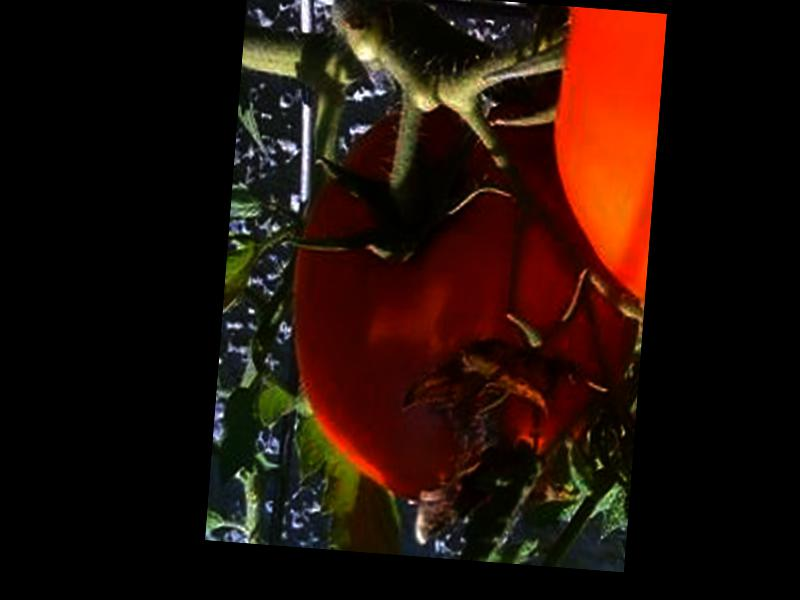Tomato: (276, 92, 647, 520)
